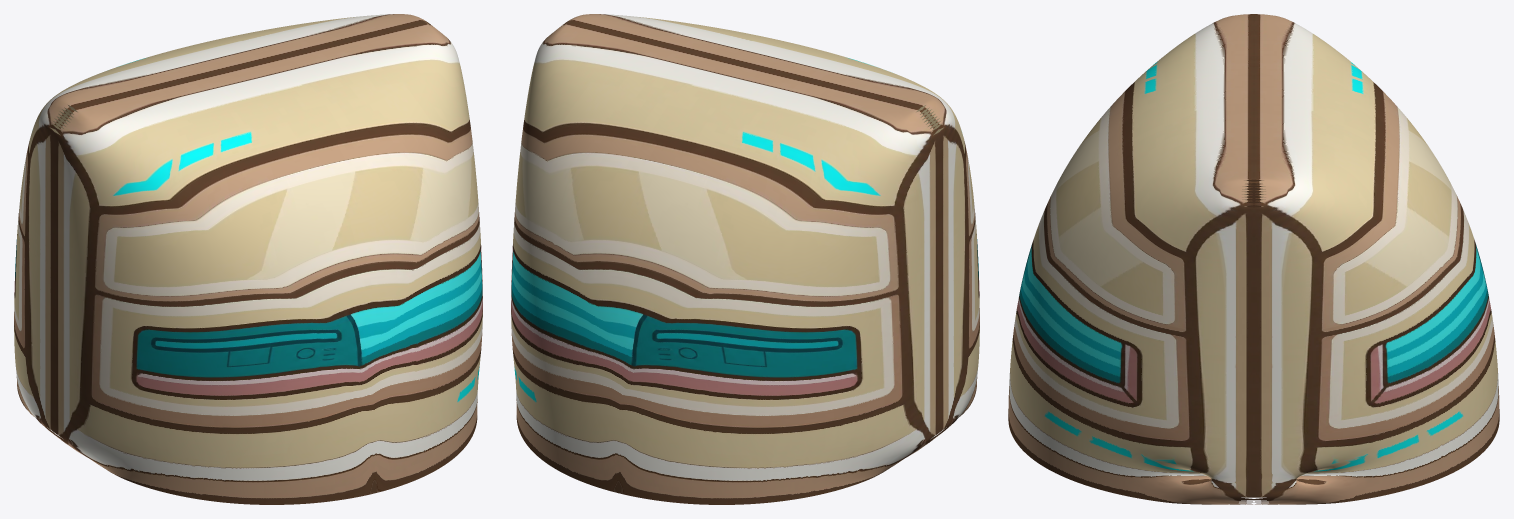
Rendered from wall_terminal.glb.
3 renders of one model, left to right at view 1: azimuth 30°, elevation 25°; view 2: azimuth 150°, elevation 25°; view 3: azimuth 270°, elevation 25°, orthographic. The views are drawn at different scales.
Parts seen in each view (by area): view 1: wall_terminal; view 2: wall_terminal; view 3: wall_terminal.
Boxes of the visible parts, left/top/right/bottom form: wall_terminal: left=14, top=14, right=482, bottom=504; wall_terminal: left=511, top=14, right=979, bottom=504; wall_terminal: left=1008, top=14, right=1499, bottom=504.
Size of the model in its own units: 0.989 by 0.8126 by 1.12.
1 material, 1 textured.
